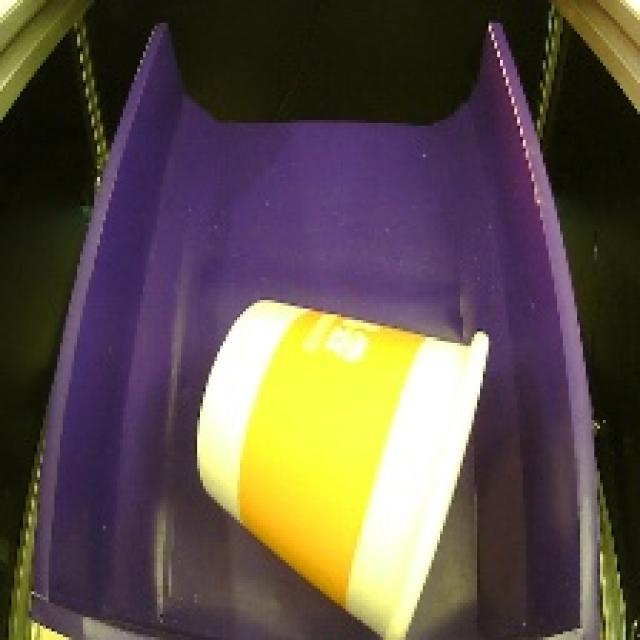cups: (179, 283, 500, 640)
